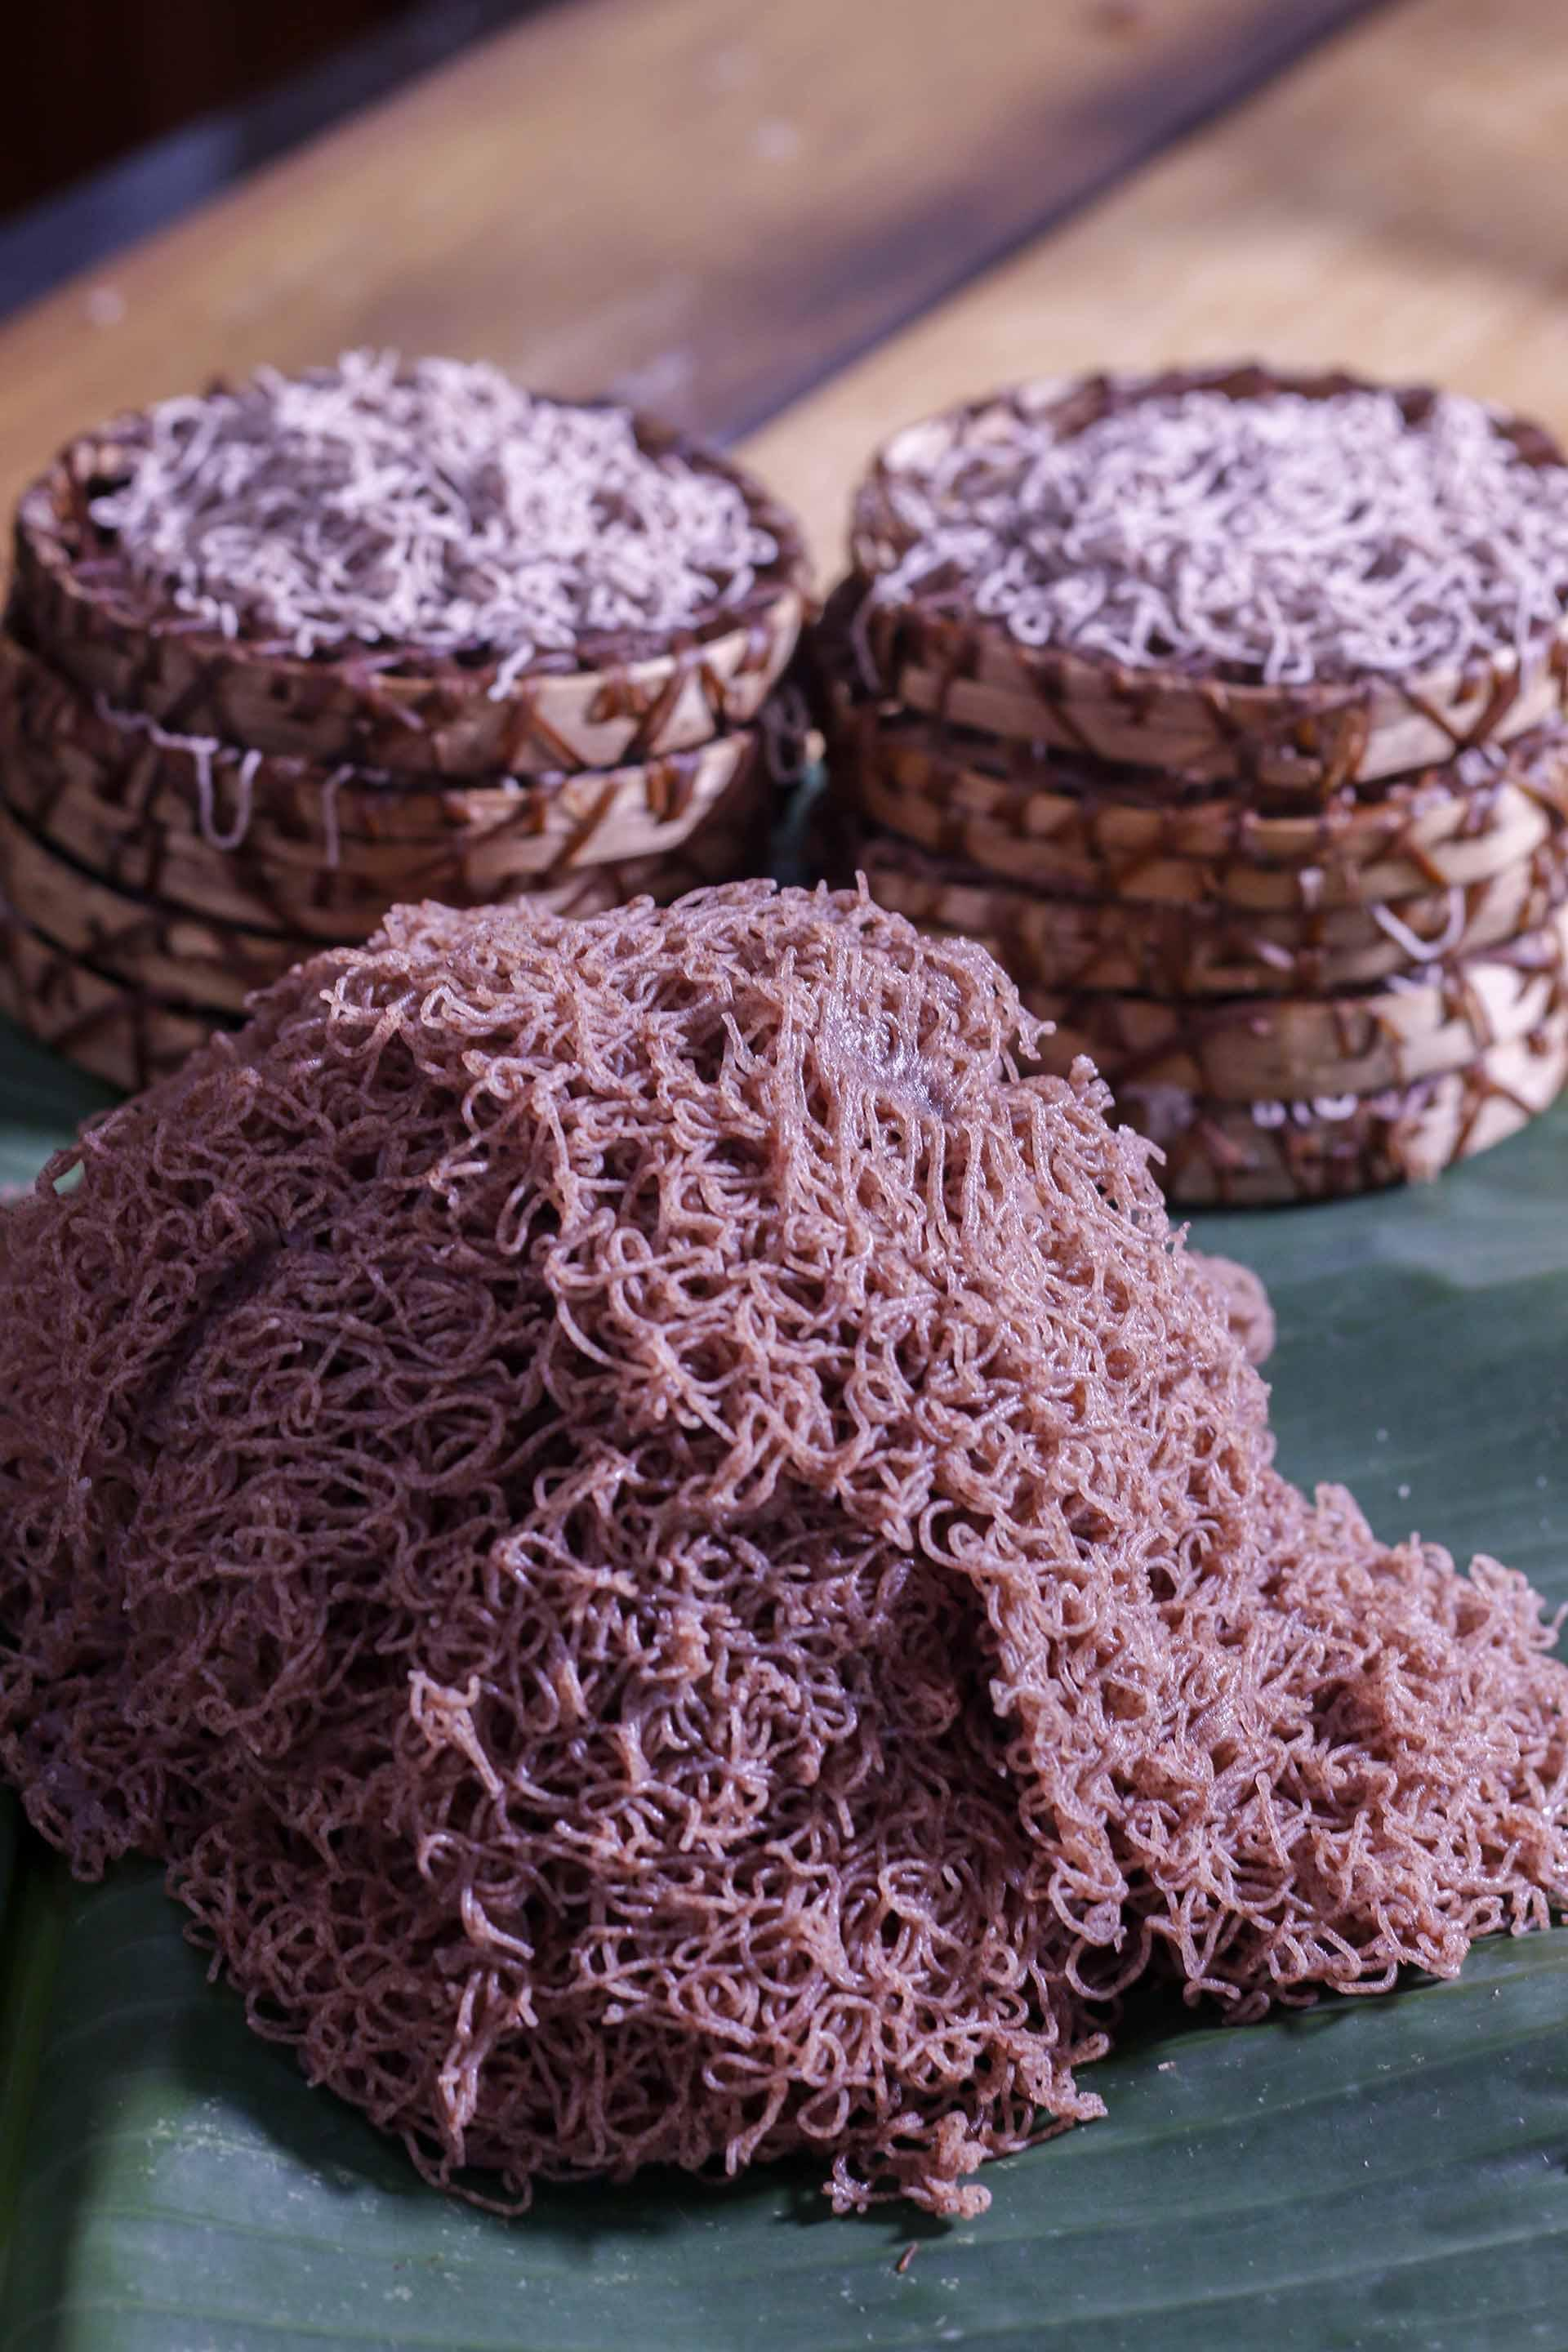String Hoppers: (9, 740, 1559, 2287)
